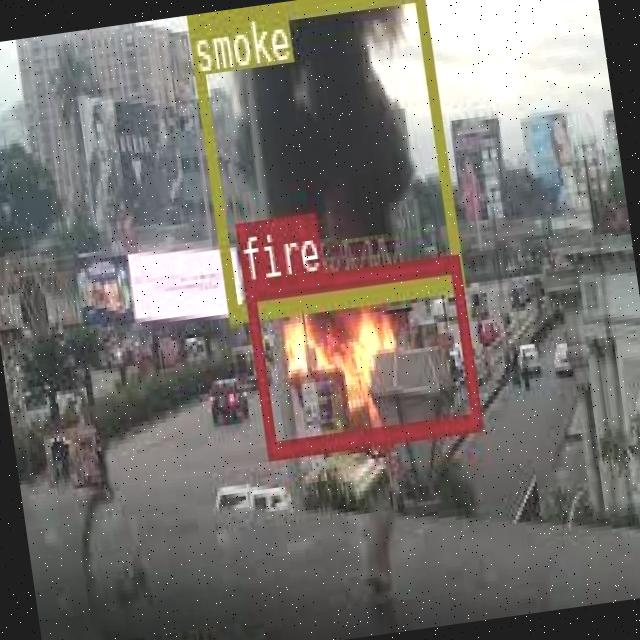fire: (244, 253, 481, 455)
smoke: (186, 0, 461, 318)
